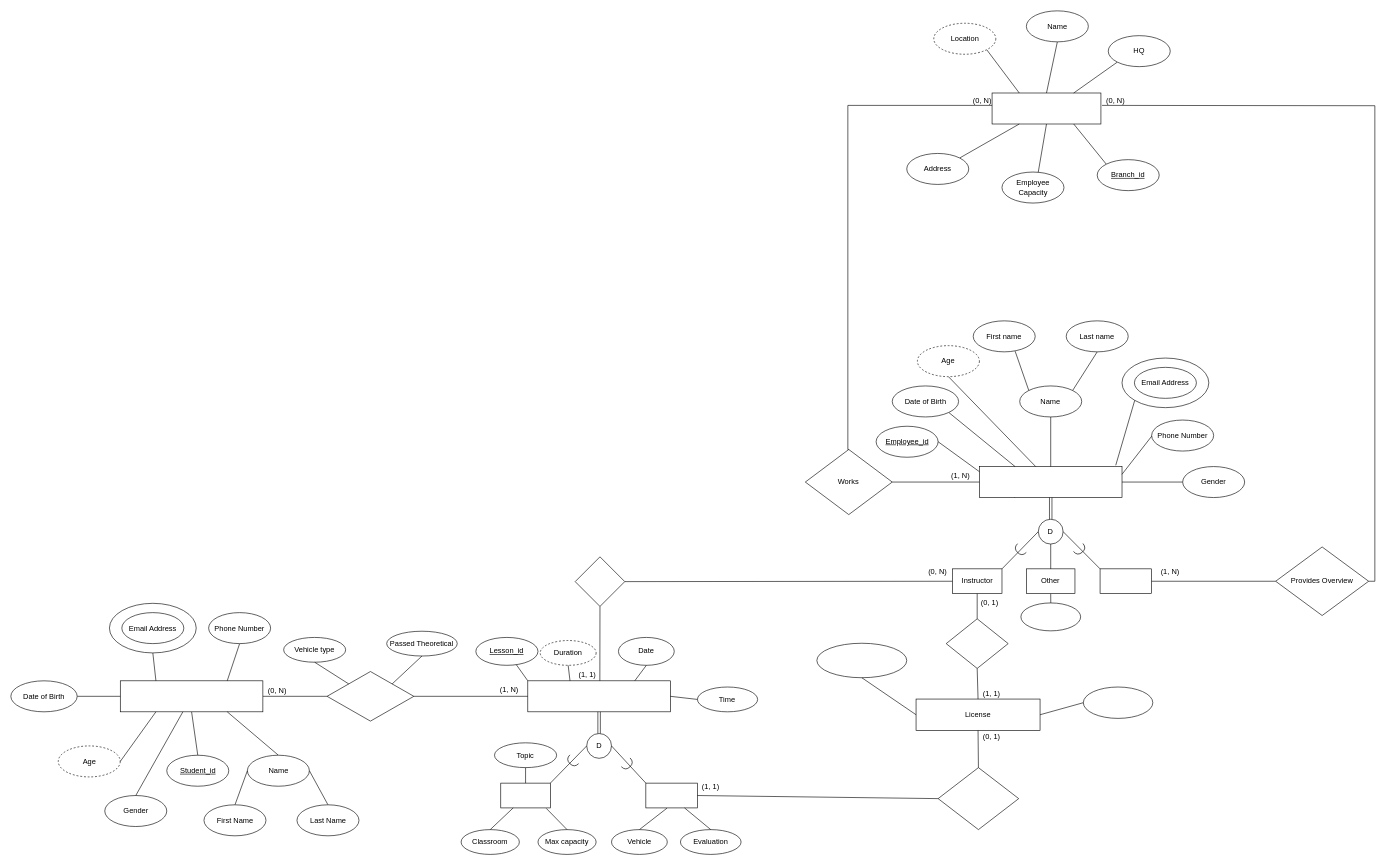
This 1386x866 diagram has some shape labels left out. The centre of each missing label's shape, as x and y in pixels:
"Administrative position" belongs at (x=1125, y=581).
"Assigned" belongs at (x=600, y=581).
"Books" belongs at (x=370, y=696).
"Branch" belongs at (x=1046, y=108).
"Catagory" belongs at (x=1118, y=702).
"Employee" belongs at (x=1050, y=482).
"Has" belongs at (x=977, y=643).
"job title" belongs at (x=1050, y=616).
"Lesson" belongs at (x=598, y=696).
"License_id" belongs at (x=861, y=660).
"Practical Class" belongs at (x=671, y=795).
"Qualified" belongs at (x=978, y=798).
"Student" belongs at (x=191, y=696).
"Theoretical Class" belongs at (x=525, y=795).
